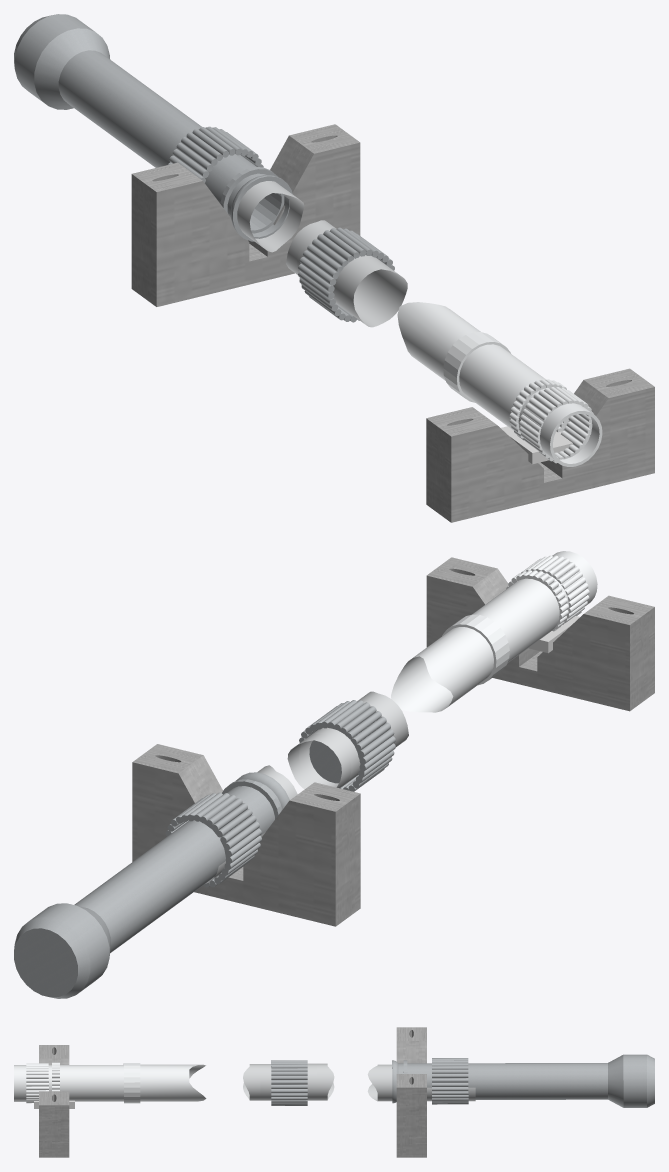
The picture shows the model from 3 angles, top to bottom: view 1: azimuth 30°, elevation 25°; view 2: azimuth 150°, elevation 25°; view 3: azimuth 270°, elevation 25°; orthographic projection. The views are drawn at different scales.
Parts seen in each view (by area): view 1: v block, 1, v block.001, 7, 6.002, Cube; view 2: 1, v block, v block.001, 7, 6.002; view 3: 1, 7, v block, 6.002, v block.001.
Part boxes in pixels (x1,y1,x2,y2): v block: (131,124,360,306); 1: (14,14,304,252); v block.001: (426,368,654,522); 7: (397,302,602,466); 6.002: (286,220,407,327); Cube: (501,426,572,464); 1: (14,765,297,998); v block: (132,744,360,926); v block.001: (426,557,654,711); 7: (391,551,597,712); 6.002: (287,691,408,791); 1: (367,1054,654,1107); 7: (14,1062,206,1103); v block: (396,1027,426,1157); 6.002: (243,1060,334,1105); v block.001: (39,1045,69,1157).
Bounding box in the file's own units: 94.76 × 51.52 × 426.
4 materials, 2 textured.
